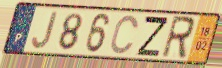6: (85, 13, 111, 55)
8: (57, 12, 85, 52)
C: (109, 14, 140, 56)
J: (31, 11, 60, 51)
R: (159, 14, 197, 61)
Z: (135, 15, 170, 58)
